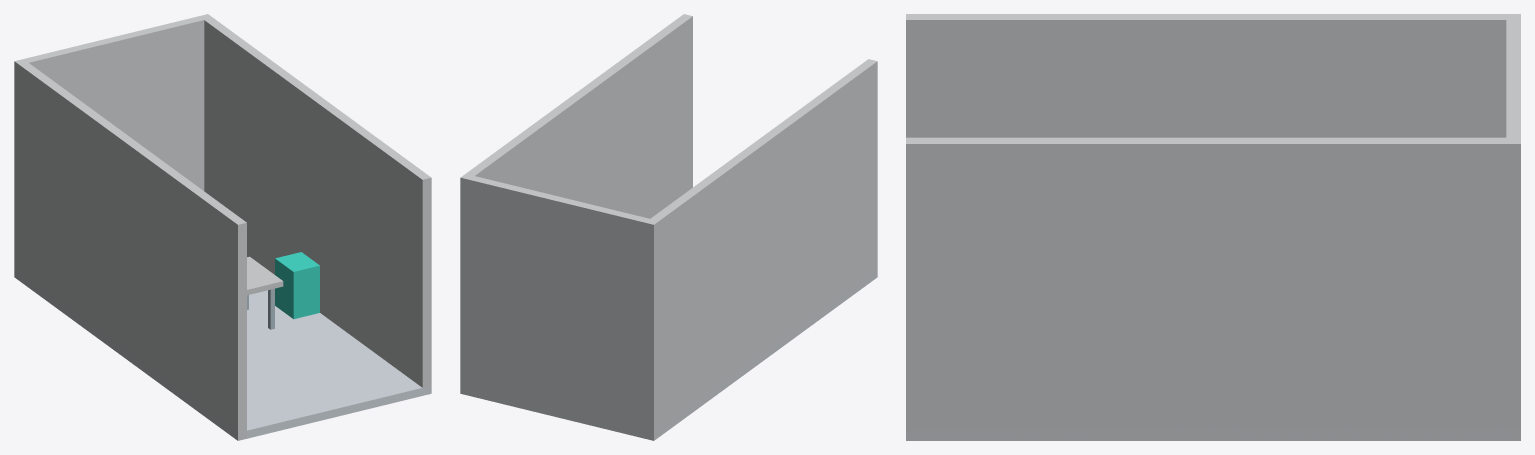
The picture shows the model from 3 angles, left to right: view 1: azimuth 30°, elevation 25°; view 2: azimuth 150°, elevation 25°; view 3: azimuth 270°, elevation 25°; orthographic projection. The views are drawn at different scales.
Visible parts, largest first — view 1: Exhibition Booth Concept; view 2: Exhibition Booth Concept; view 3: Exhibition Booth Concept.
Boxes of the visible parts, bbox=[...] form: Exhibition Booth Concept: bbox=[14, 14, 431, 440]; Exhibition Booth Concept: bbox=[460, 14, 877, 440]; Exhibition Booth Concept: bbox=[906, 14, 1520, 440].
Size of the model in its own units: 3 by 3.2 by 6.
